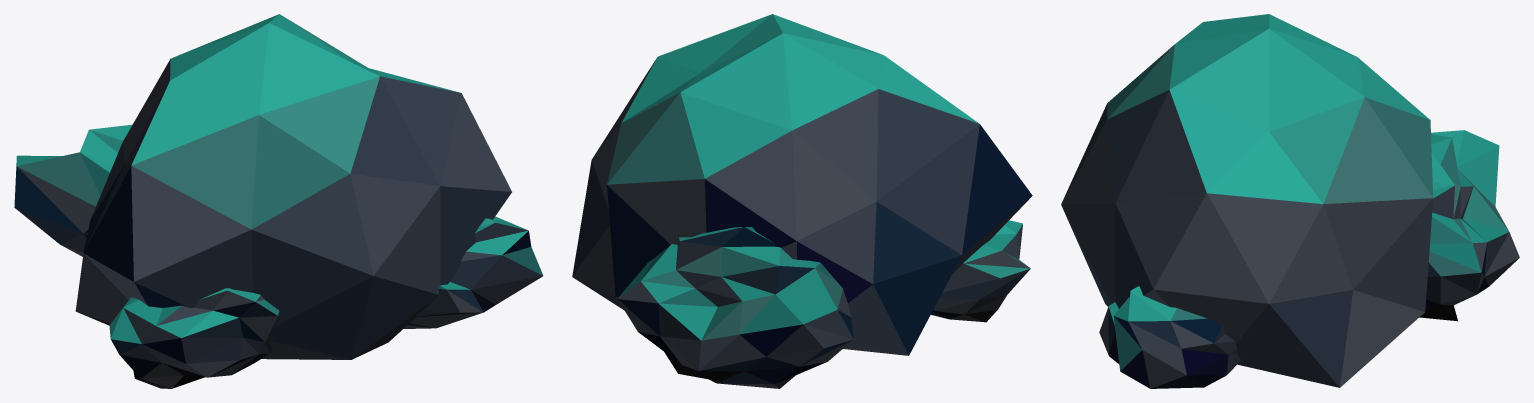
The model's file is batu_boulder_basalt_512627.glb.
3 renders of one model, left to right at view 1: azimuth 30°, elevation 25°; view 2: azimuth 150°, elevation 25°; view 3: azimuth 270°, elevation 25°, orthographic. The views are drawn at different scales.
Visible parts, largest first — view 1: Batu_Jeram_Sungai; view 2: Batu_Jeram_Sungai; view 3: Batu_Jeram_Sungai.
Part boxes in pixels (x1=…): Batu_Jeram_Sungai: x1=14, y1=14, x2=543, y2=388; Batu_Jeram_Sungai: x1=572, y1=14, x2=1032, y2=388; Batu_Jeram_Sungai: x1=1061, y1=14, x2=1519, y2=388.
Bounding box in the file's own units: 6.32 × 4.47 × 6.19.
